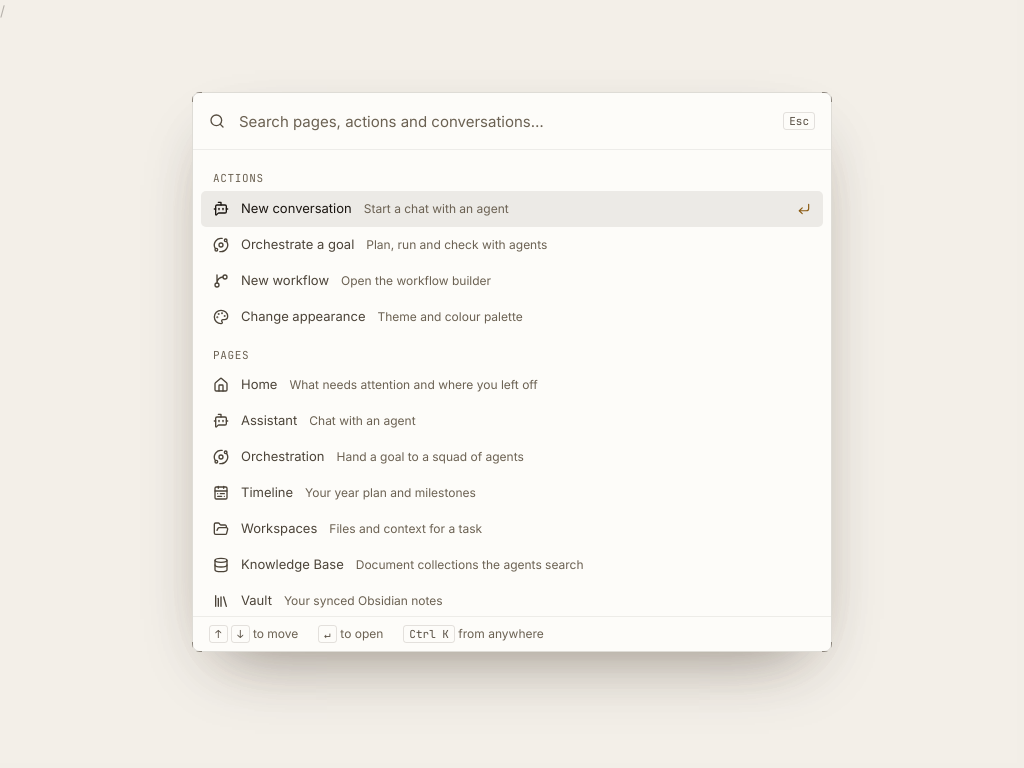
Test: CommandPalette › finds pages by what they are for, not only by name
In the dropdown: (504, 121) [237,105,771,137], type "monitoring"
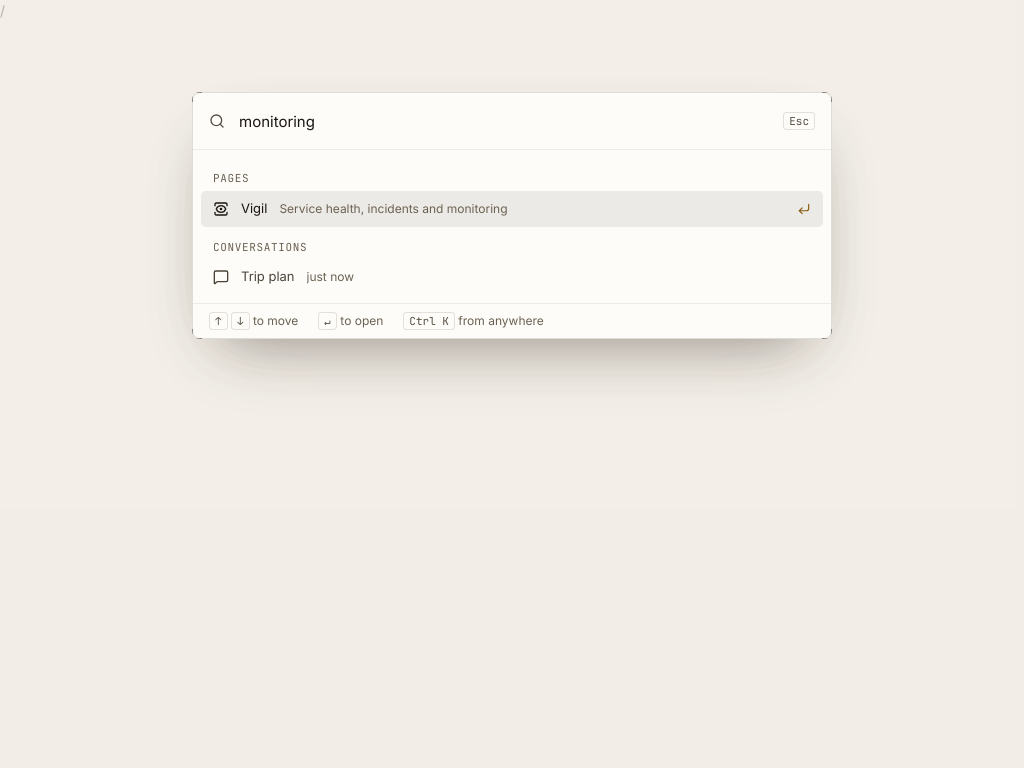
Expected: the option "agents" is not shown
Expected: the option "Vigil Service health, incidents and monitoring" is shown, [201,191,823,227]
